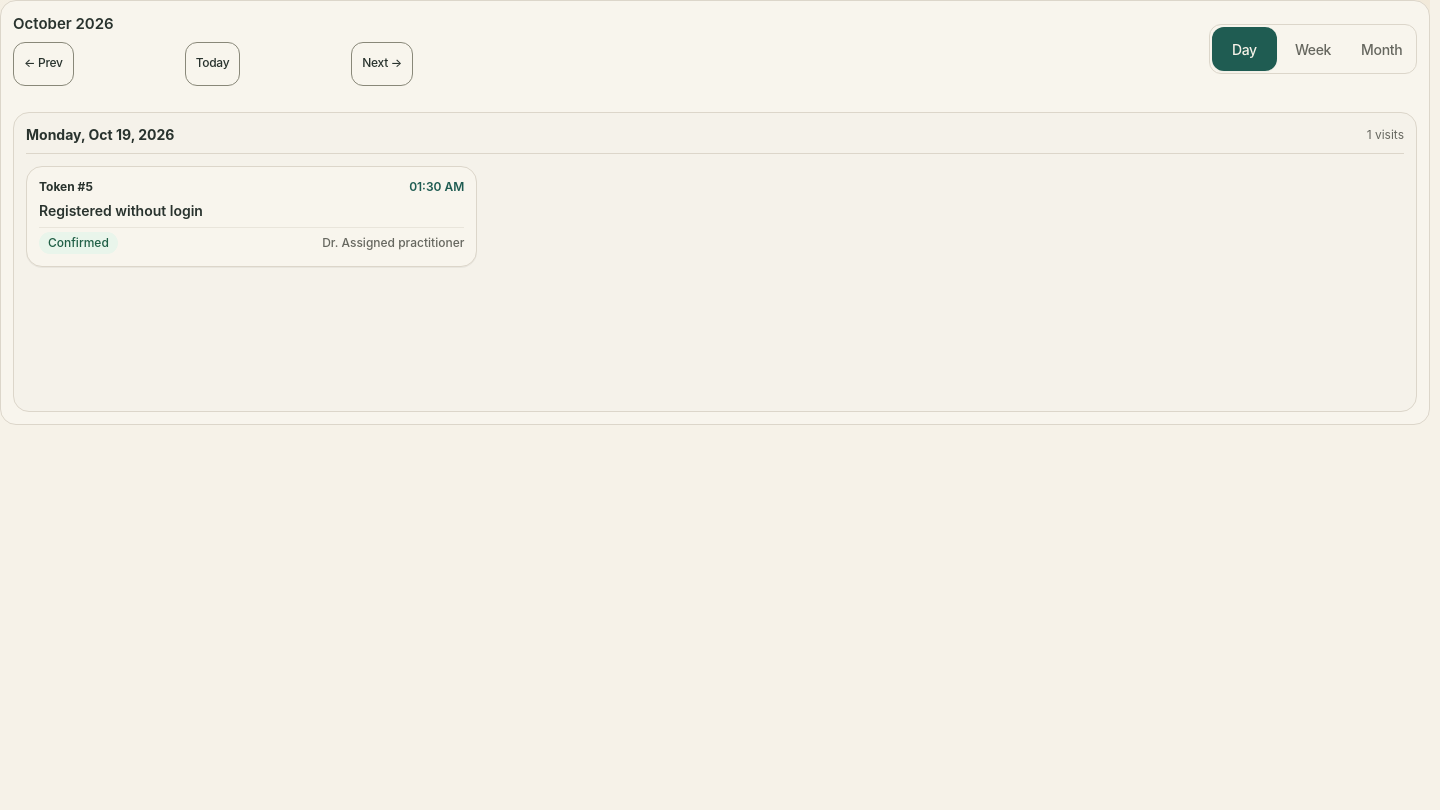
Test case: uses the selected facility's day and canonical patient identity in the agenda and details
Click the button "Registered without login" at coordinates (62, 186), box [26,166,477,266]
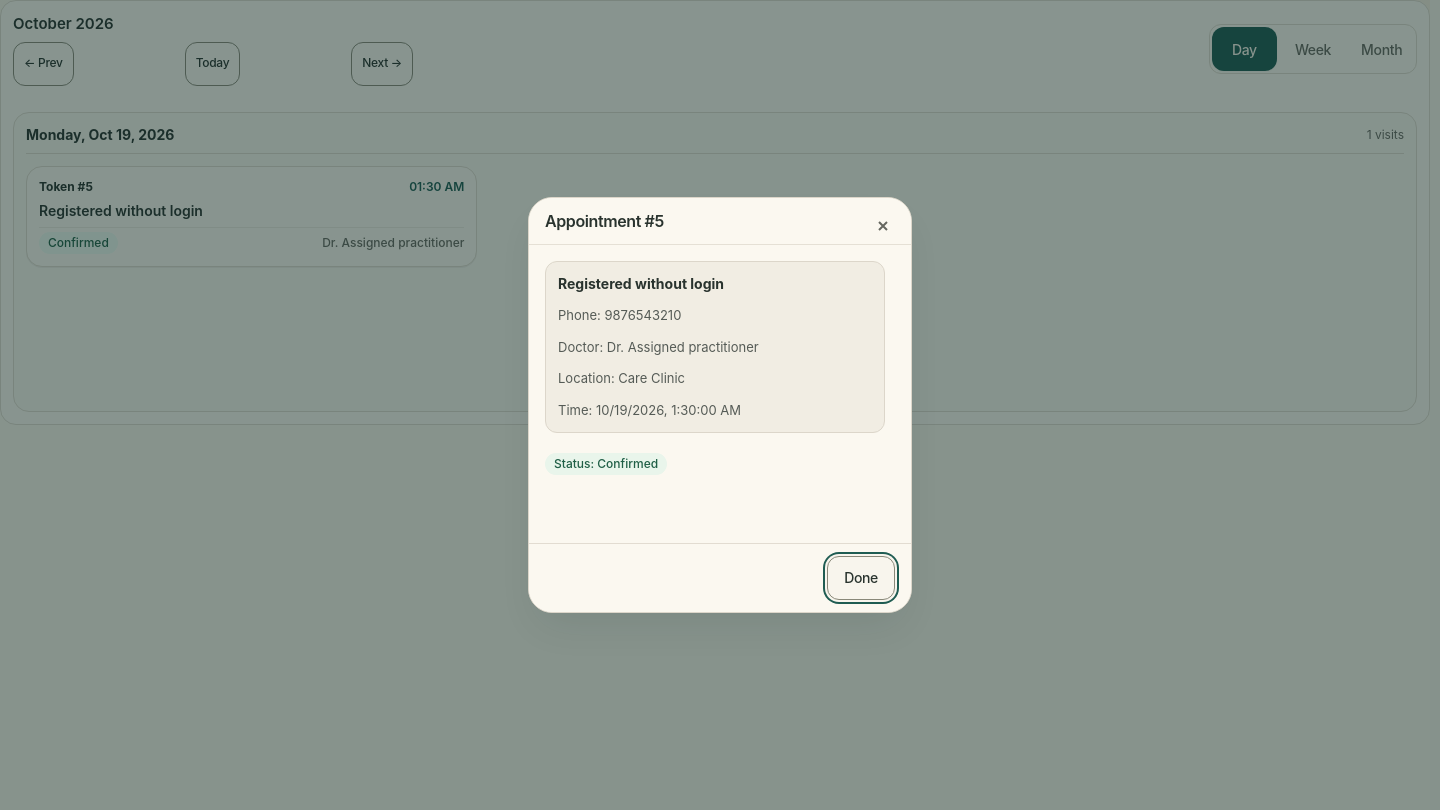
Expected: the text "Registered without login" is shown, [558,274,724,294]
Expected: the text "Phone: 9876543210" is shown, [558,306,681,326]
Expected: the text "Time: 10/19/2026, 1:30:00 AM" is shown, [558,401,741,420]
